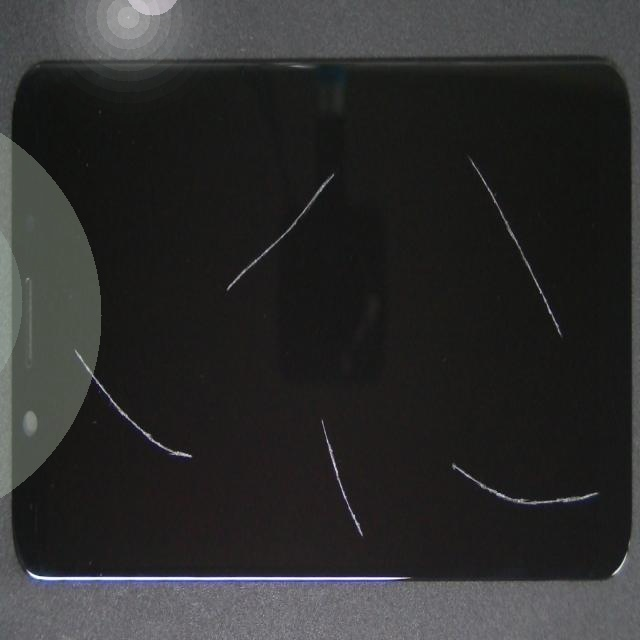scratch: (110, 109, 332, 421)
